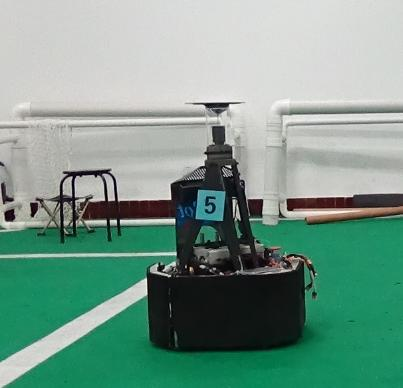robot: (145, 95, 306, 354)
